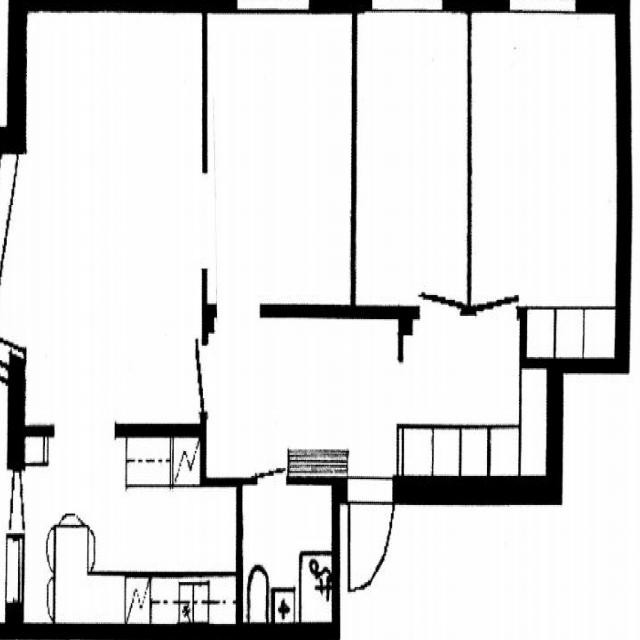door: (349, 477, 394, 586), (476, 232, 518, 316), (421, 232, 462, 316), (8, 468, 60, 531), (165, 346, 208, 413), (256, 421, 287, 486), (0, 467, 24, 531)
